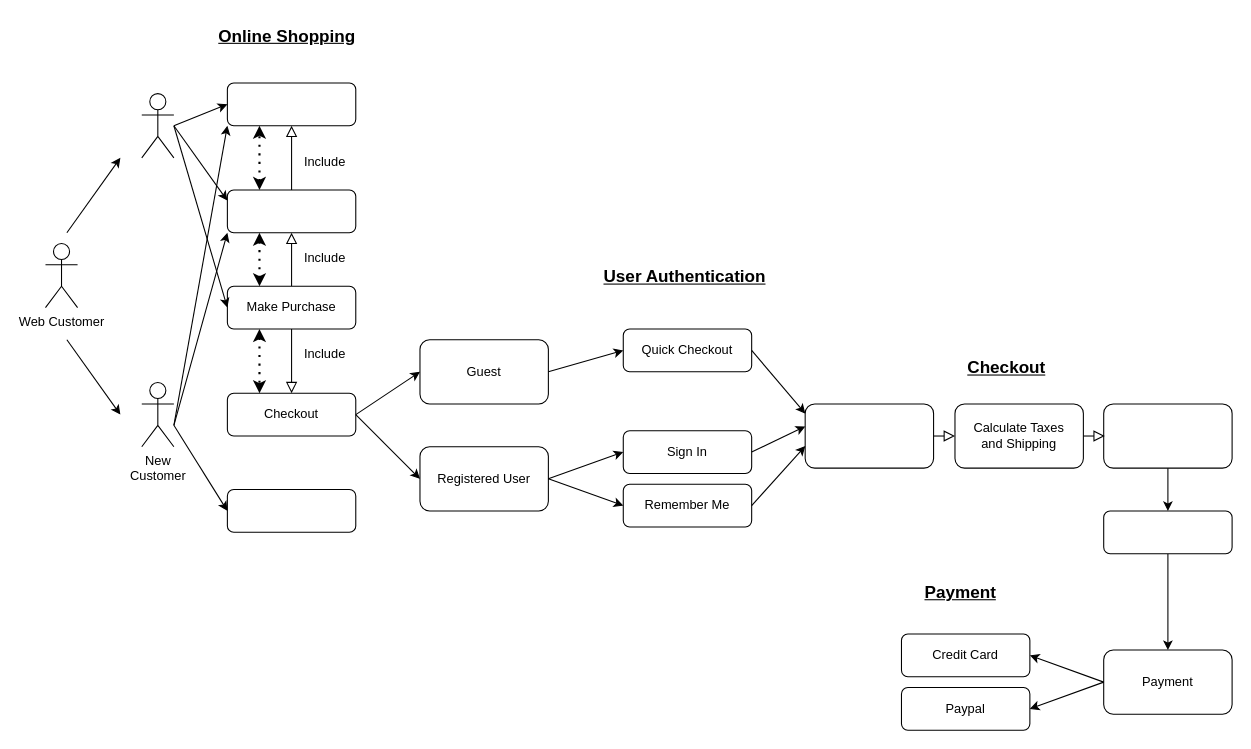
Some shapes in this 1251 by 749 pixel diagram are drawn without their labels. Here are the shapes that lost their labels. From the top down, the centre of each, then its label:
At point 291,104: "View Items".
At point 157,125: "Registered Customer".
At point 291,211: "Soap Builder".
At point 869,435: "View/Update Shopping Cart".
At point 1167,435: "Calculate Total".
At point 291,510: "Client Register".
At point 1167,532: "Confirm Shopping Cart".
